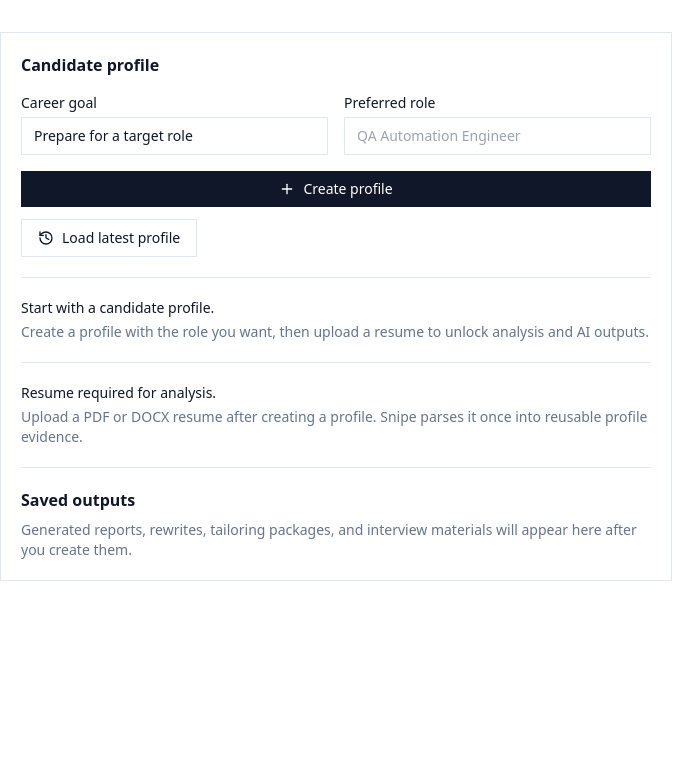
Test: ResumeWorkflow › loads the latest profile and saved outputs after refresh
Click the button "Load latest profile" at coordinates (109, 238), box [21,219,197,257]
(page scrolled)
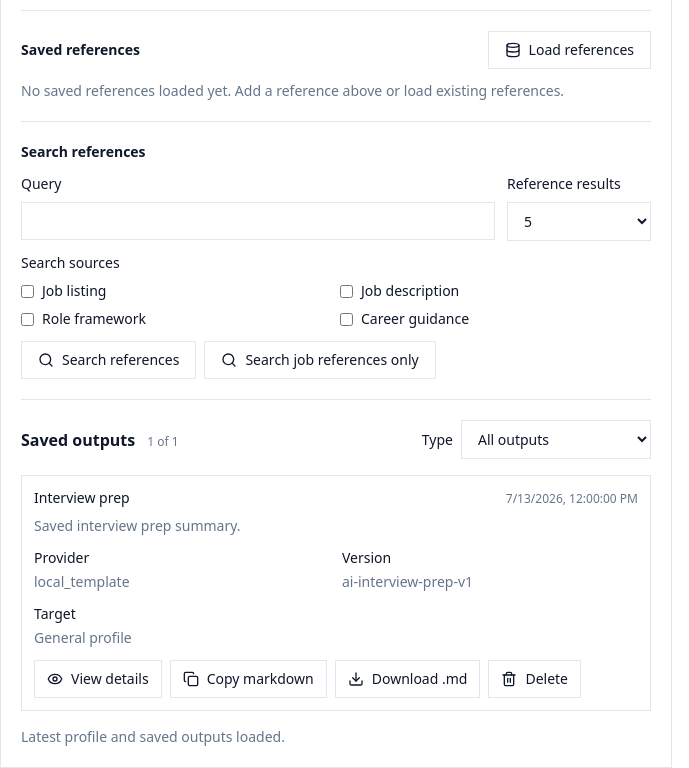
Check: the text "Saved interview prep summary." is shown, box [34,516,240,535]
